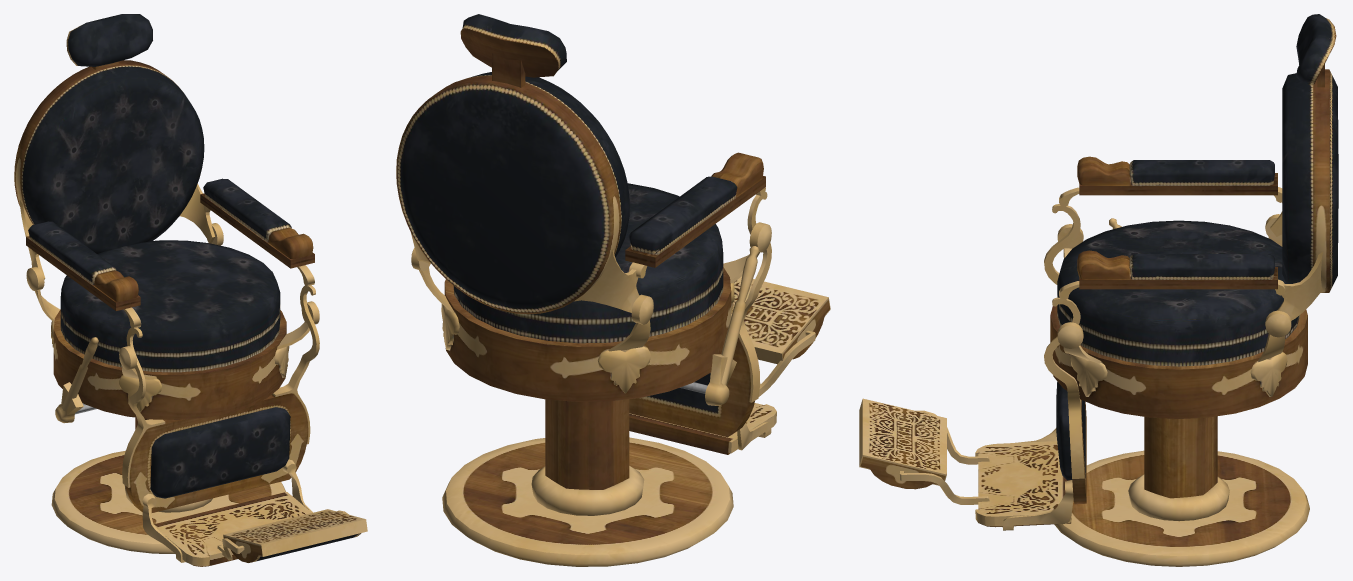
The model's file is barber-chair.glb.
3 renders of one model, left to right at view 1: azimuth 30°, elevation 25°; view 2: azimuth 150°, elevation 25°; view 3: azimuth 270°, elevation 25°, orthographic. The views are drawn at different scales.
Visible parts, largest first — view 1: BarberShopChair_01; view 2: BarberShopChair_01; view 3: BarberShopChair_01.
Boxes of the visible parts, x1,y1,x2,y2 form: BarberShopChair_01: (14, 14, 367, 566); BarberShopChair_01: (396, 14, 830, 566); BarberShopChair_01: (859, 14, 1338, 566).
Bounding box in the file's own units: 0.7566 × 1.49 × 1.33.
Materials: 1 (1 with a texture image).
